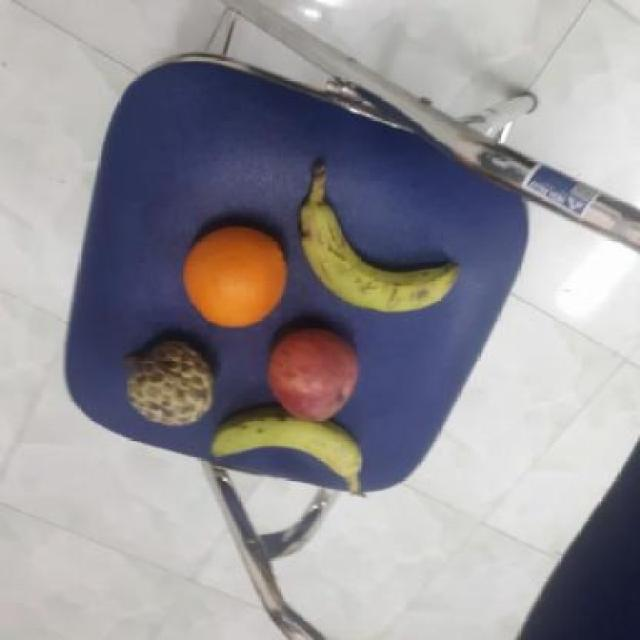apple: (265, 324, 366, 424)
banana: (295, 205, 460, 316), (209, 410, 366, 490)
oren: (180, 221, 292, 328)
sugar apple: (120, 339, 215, 430)
